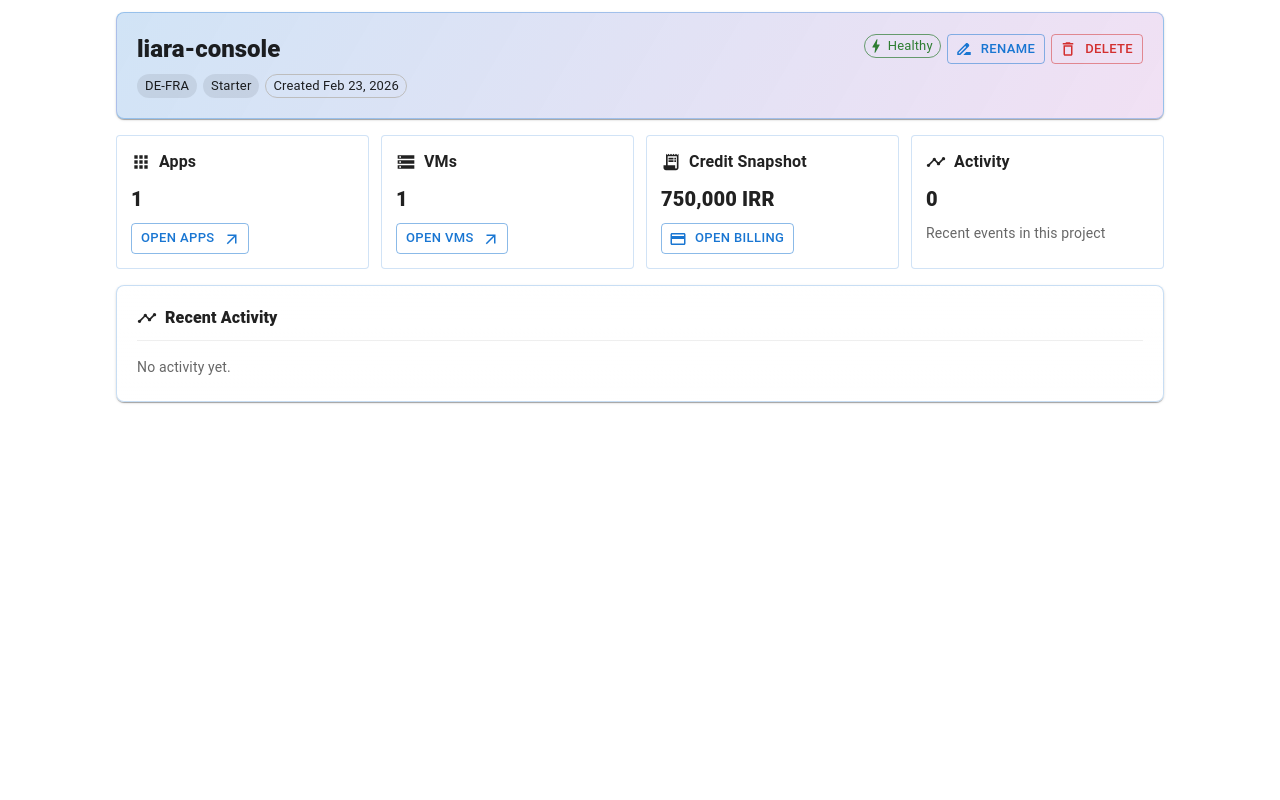
Scenario: ProjectOverviewPage integration › opens delete dialog and requires name confirmation
Expected: the heading "liara-console" is shown, x1=137 y1=33 x2=280 y2=65
Click the button "Delete".
click(1097, 49)  # box x1=1051 y1=34 x2=1143 y2=64
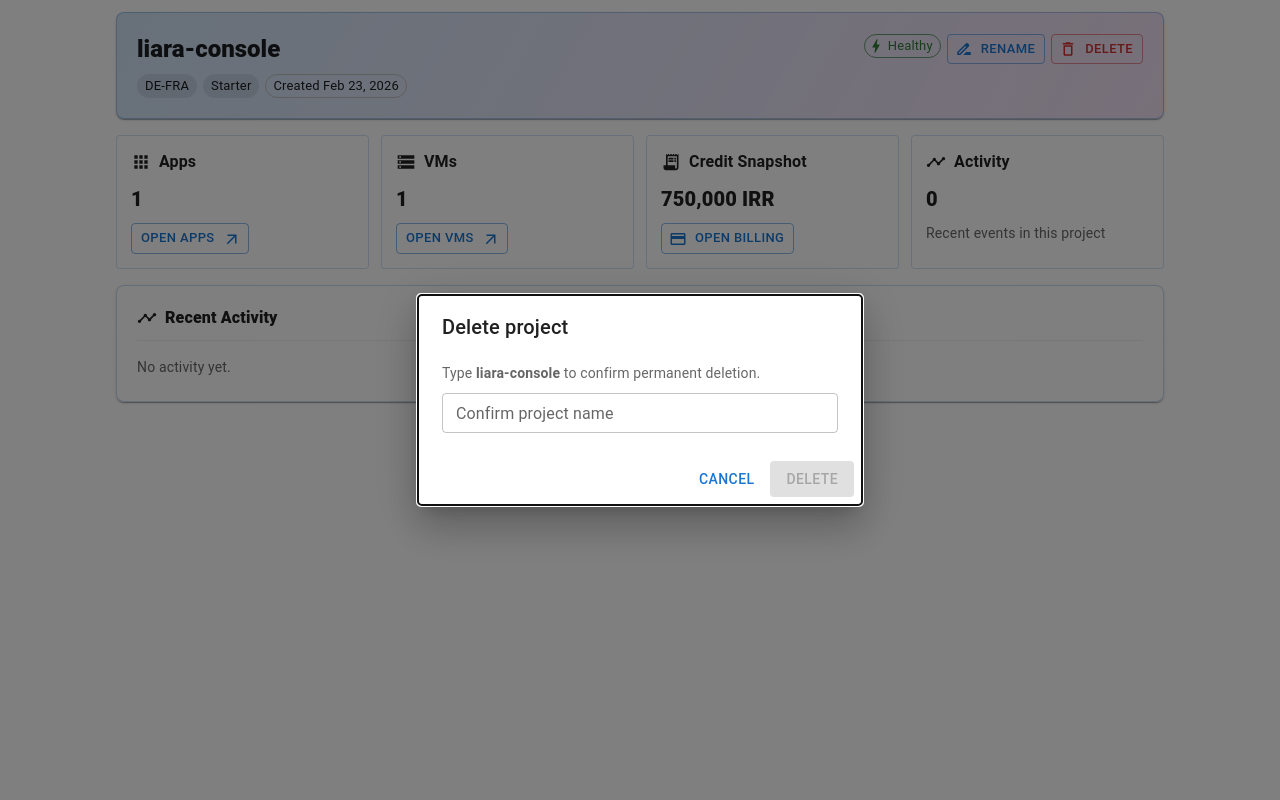
Expected: the field labelled "Confirm project name" is shown, x1=442 y1=392 x2=838 y2=432
